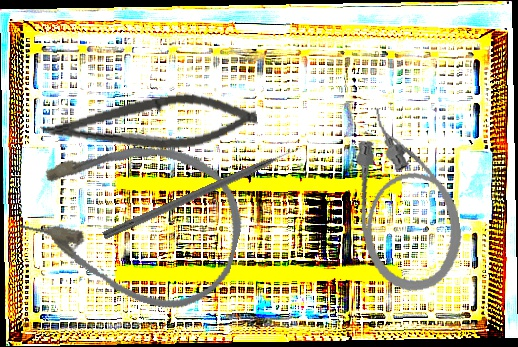Cannula: (8, 116, 257, 323), (343, 98, 470, 299)
Hook Surgical: (102, 144, 303, 243)
Micro Scissor: (38, 85, 260, 165)
